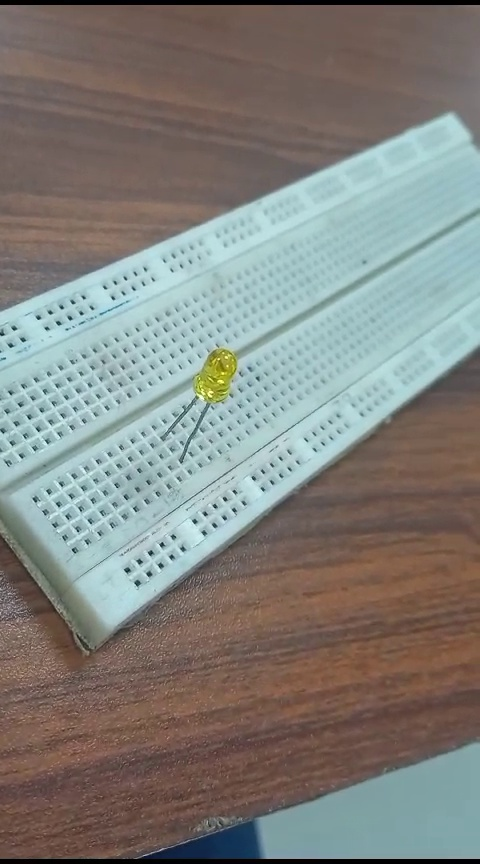LED: (171, 347, 247, 468)
